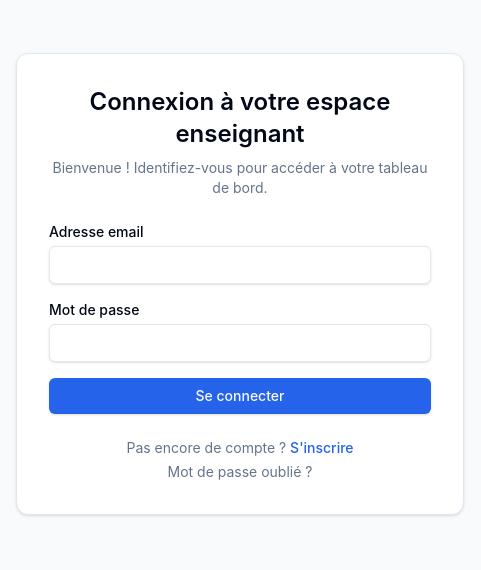
LoginPage › affiche le message dédié sur 429
Type "a@b.fr" into the field labelled "Adresse email".
click(240, 265); type("a@b.fr")  # box [49,246,431,284]
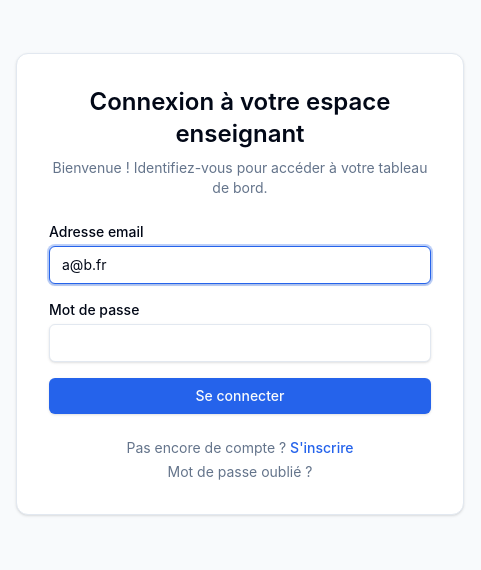
Type "motdepasse" into the password field labelled "Mot de passe".
click(240, 343); type("motdepasse")  # box [49,324,431,362]
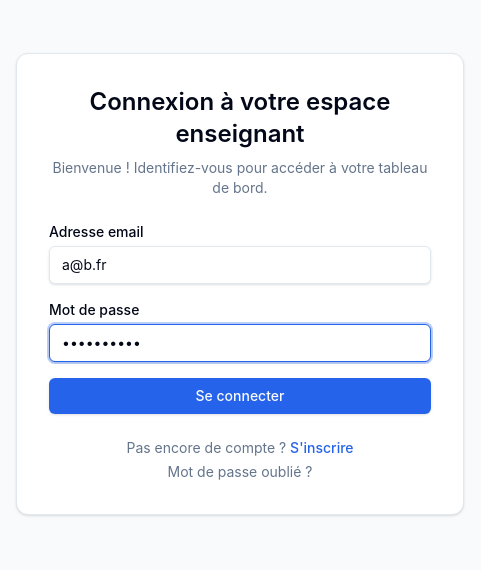
Click the button "Se connecter".
click(240, 396)  # box [49,378,431,414]
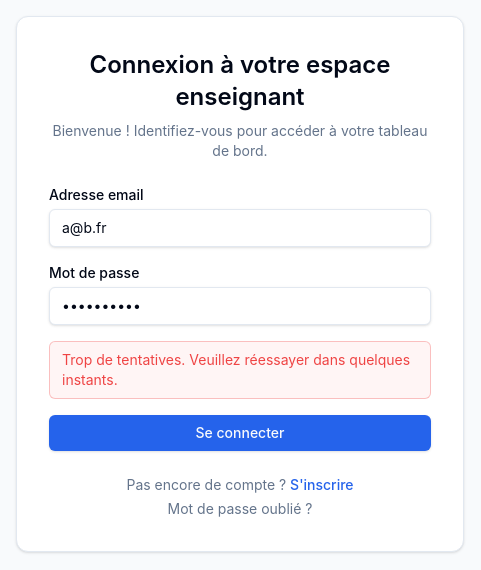
Check: the text "Trop de tentatives. Veuillez réessayer dans quelques instants." is shown, box [49,341,431,399]
